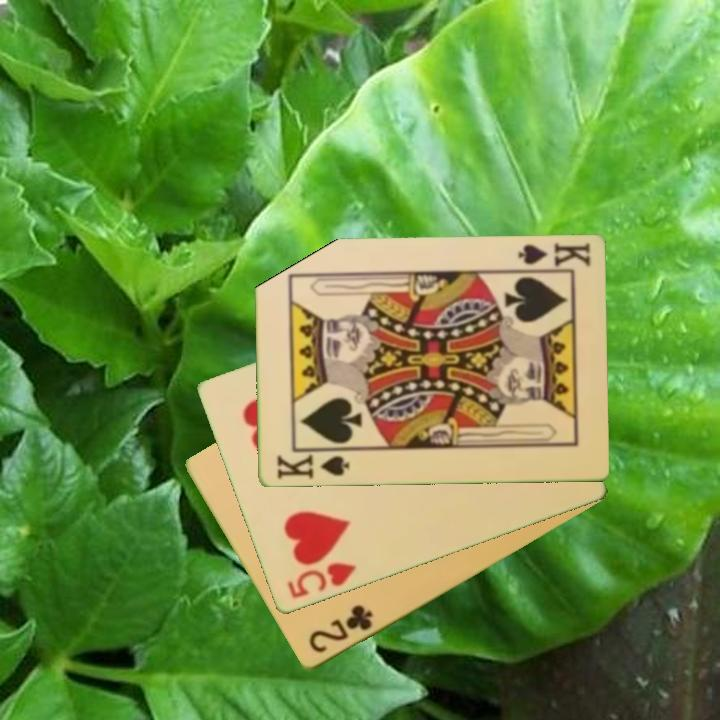2c: (305, 602, 376, 657)
5h: (283, 559, 359, 602)
Ks: (511, 239, 593, 274), (273, 448, 351, 482)
